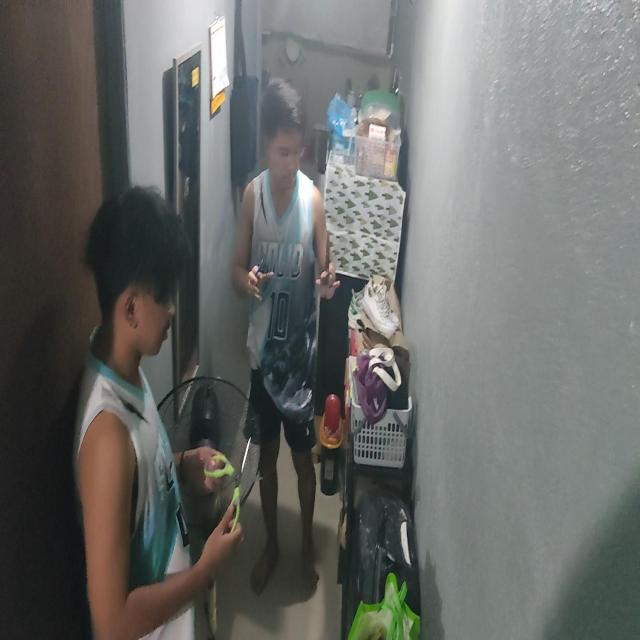scissor: (203, 430, 265, 542)
